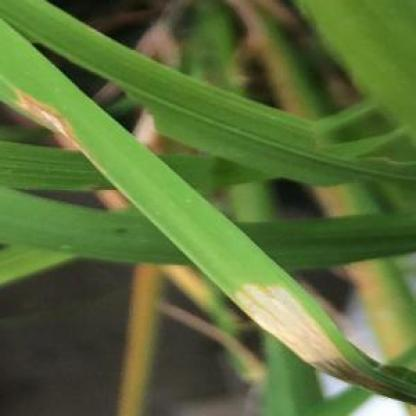Rice blast: (226, 277, 402, 396), (1, 83, 87, 156)
